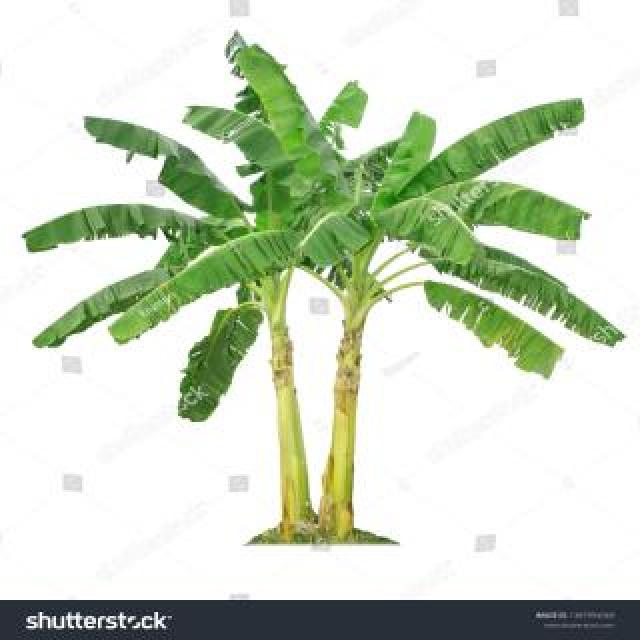Pisang: (27, 58, 315, 557), (330, 54, 616, 547)
